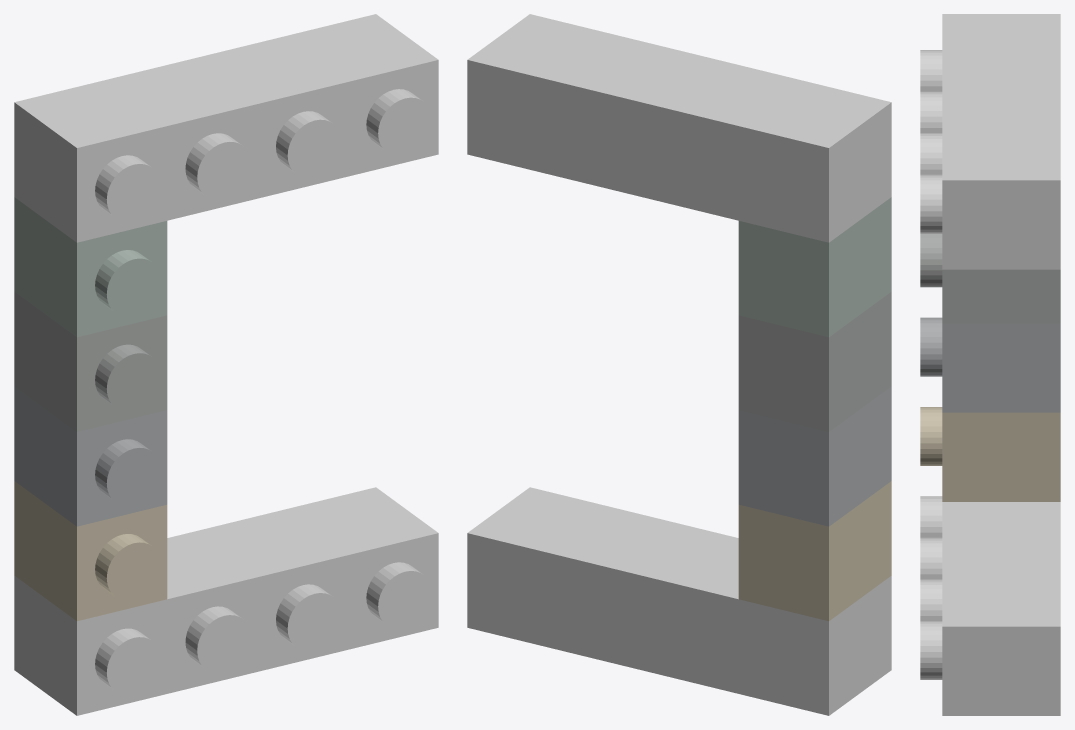
The model's file is current.glb.
The picture shows the model from 3 angles, left to right: view 1: azimuth 30°, elevation 25°; view 2: azimuth 150°, elevation 25°; view 3: azimuth 270°, elevation 25°; orthographic projection. The views are drawn at different scales.
Visible parts, largest first — view 1: world; view 2: world; view 3: world.
Boxes of the visible parts, left/top/right/bottom form: world: left=14, top=14, right=438, bottom=715; world: left=467, top=14, right=891, bottom=715; world: left=920, top=14, right=1060, bottom=715.
Bounding box in the file's own units: 32 × 48 × 11.4.
